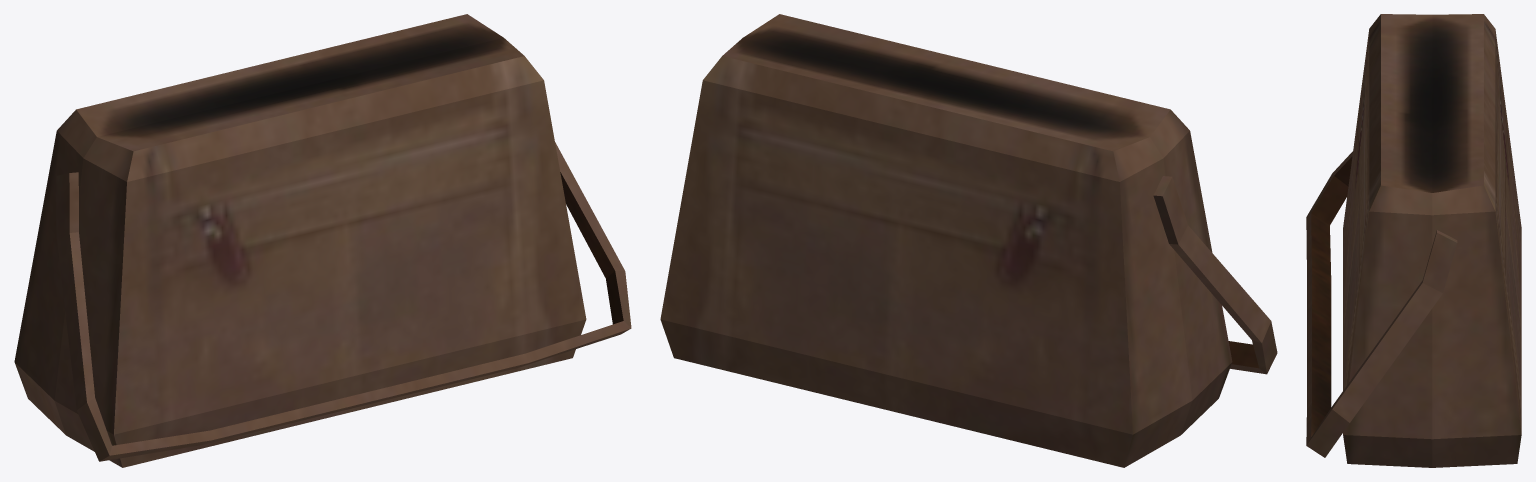
File: postmanBag.fbx
The picture shows the model from 3 angles, left to right: view 1: azimuth 30°, elevation 25°; view 2: azimuth 150°, elevation 25°; view 3: azimuth 270°, elevation 25°; orthographic projection. The views are drawn at different scales.
Parts seen in each view (by area): view 1: Bag, Belt; view 2: Bag, Belt; view 3: Bag, Belt.
Boxes of the visible parts, <box> form: Bag: <box>14,14,586,467</box>; Belt: <box>56,142,631,461</box>; Bag: <box>660,14,1232,467</box>; Belt: <box>1153,176,1277,374</box>; Bag: <box>1343,14,1521,467</box>; Belt: <box>1306,151,1457,457</box>.
Size of the model in its own units: 48.77 by 25.55 by 18.77.
